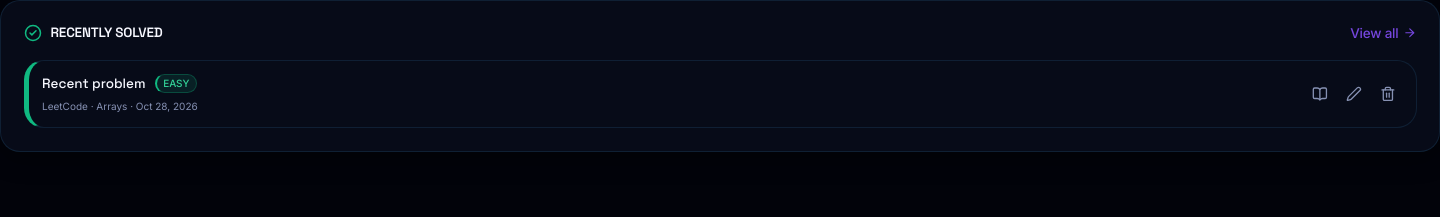
dashboard components › removes a recent item immediately and reveals its empty state
expect the button "Recent problem" is shown: met, box [42,74,146,92]
Click the button named "Delete Recent problem" at point(1387, 94), box [1373,79,1402,108]
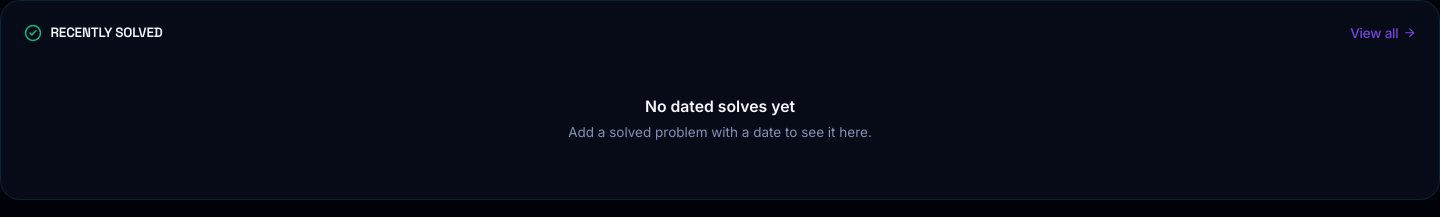
expect the button "Recent problem" is gone: met
expect the text "No dated solves yet" is shown: met, box [645,96,795,116]
